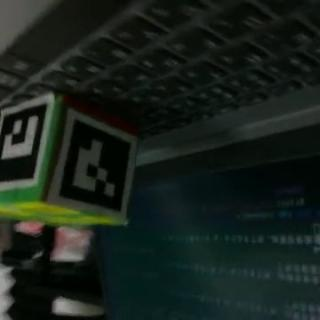armor: (46, 112, 137, 226), (0, 100, 52, 188)
robot: (0, 93, 140, 230)
